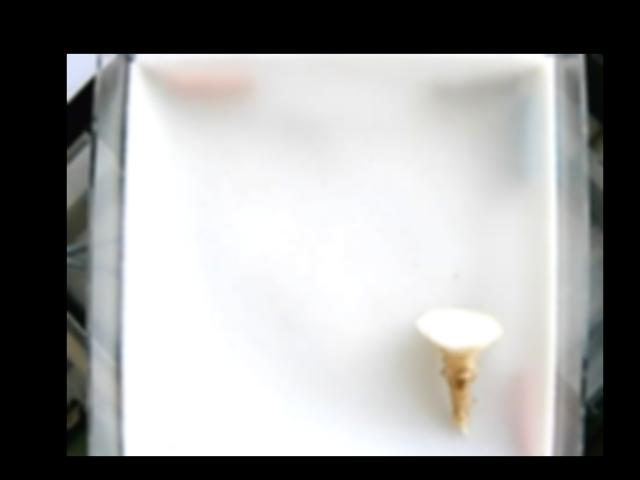Mooli: (416, 310, 504, 438)
